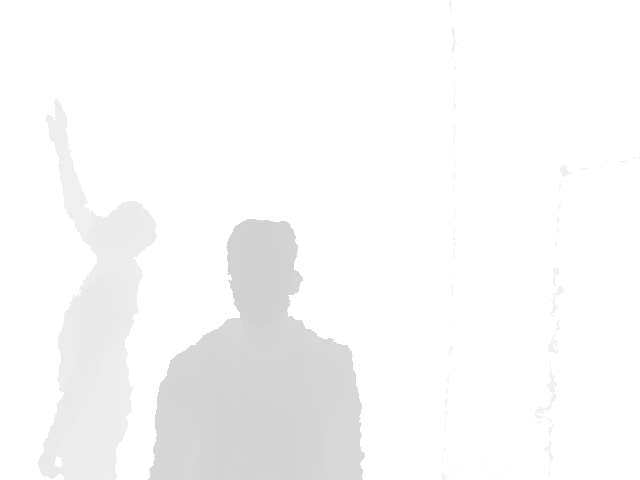hand: (46, 99, 69, 148)
head: (226, 218, 303, 322), (98, 199, 156, 267)
person: (148, 217, 366, 480), (36, 99, 155, 480)
